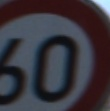Speed limit: (0, 18, 82, 110)
